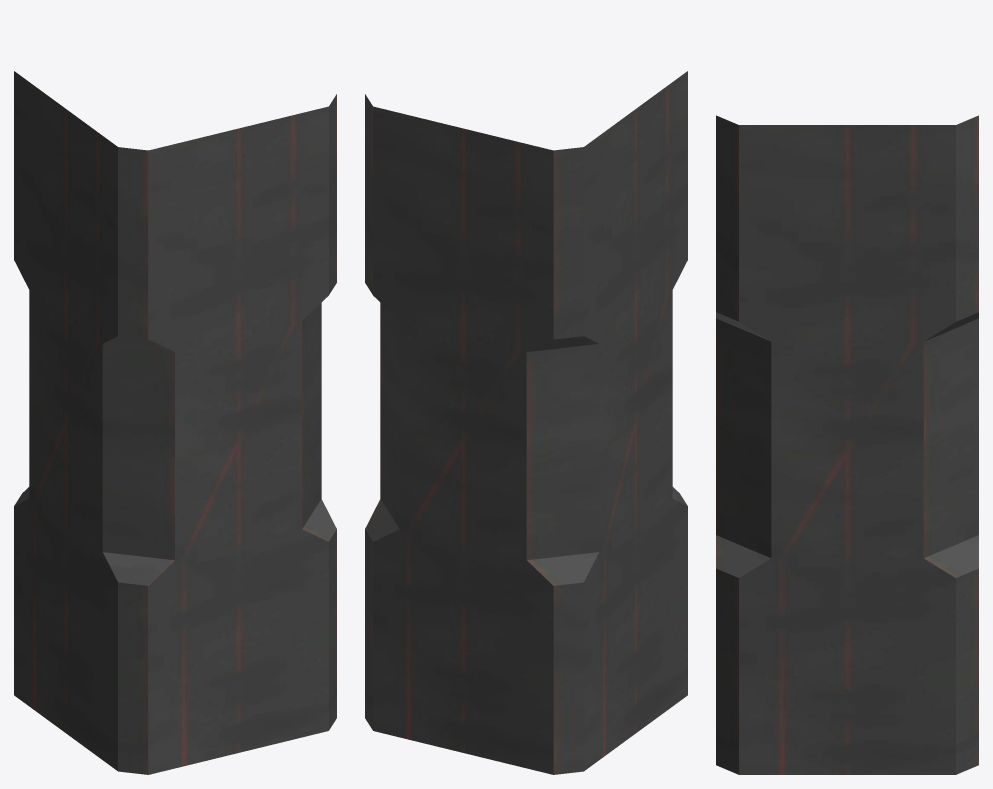
File: Post_Wide.glb
3 renders of one model, left to right at view 1: azimuth 30°, elevation 25°; view 2: azimuth 150°, elevation 25°; view 3: azimuth 270°, elevation 25°, orthographic. The views are drawn at different scales.
Visible parts, largest first — view 1: Post_Wide; view 2: Post_Wide; view 3: Post_Wide.
Boxes of the visible parts, x1,y1,x2,y2 form: Post_Wide: [14, 71, 336, 774]; Post_Wide: [365, 71, 687, 774]; Post_Wide: [716, 115, 978, 774].
Size of the model in its own units: 2.2 by 6 by 2.2.
Materials: 1 (1 with a texture image).
